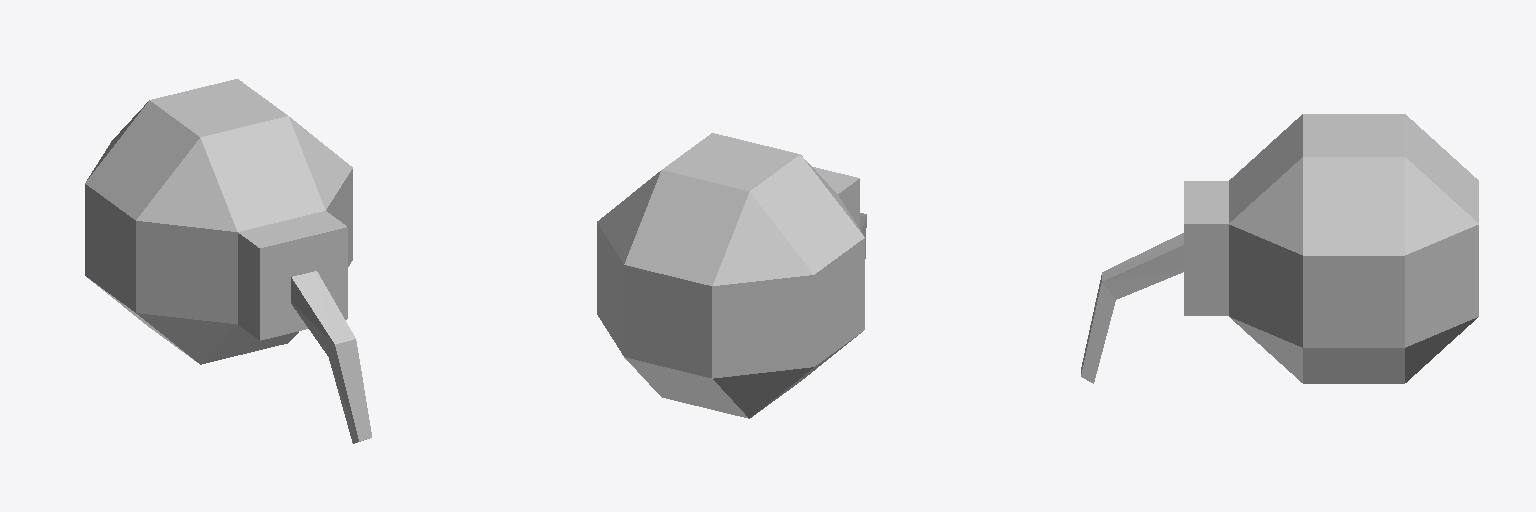
File: bomb.obj
3 views of the same model, side by side, from view 1: azimuth 30°, elevation 25°; view 2: azimuth 150°, elevation 25°; view 3: azimuth 270°, elevation 25° (orthographic).
Visible parts, largest first — view 1: Cube; view 2: Cube; view 3: Cube.
Part boxes in pixels (x1,y1,x2,y2): Cube: (85, 79, 371, 443); Cube: (597, 133, 866, 418); Cube: (1081, 114, 1478, 383).
Size of the model in its own units: 0.7182 by 0.7638 by 1.14.